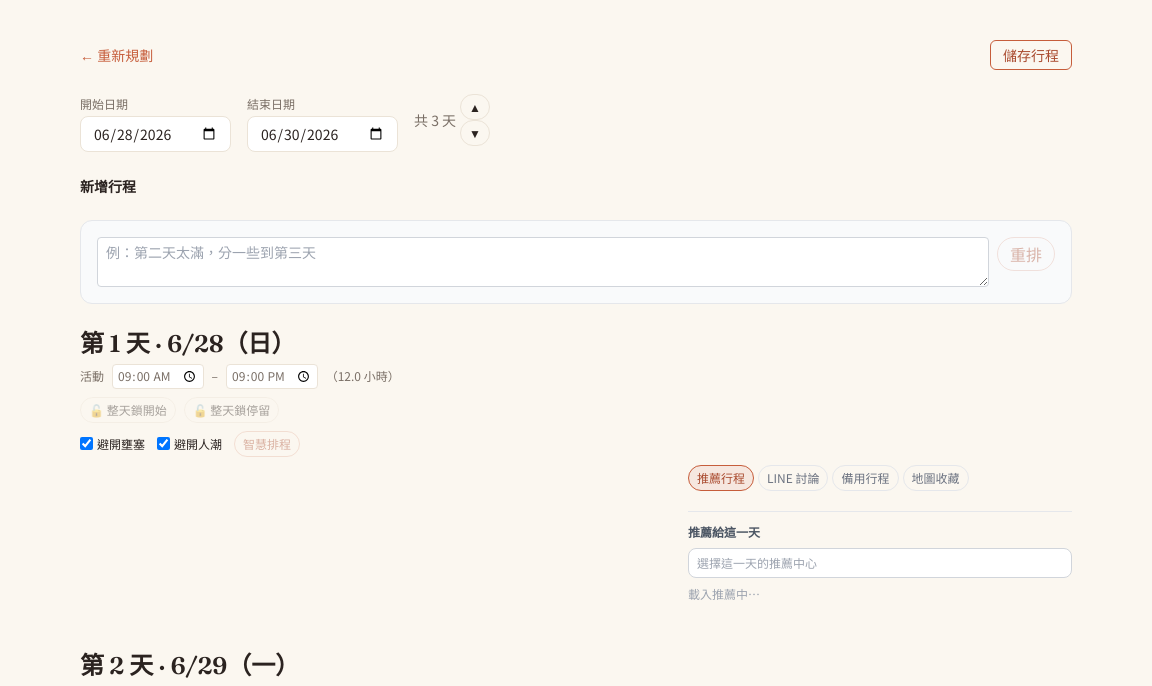
Scenario: clicking ▼ sets a pending target and shows the overCount banner without deleting days
Click the button with test id "day-count-stepper-down" at (475, 133), box [460, 120, 490, 146]
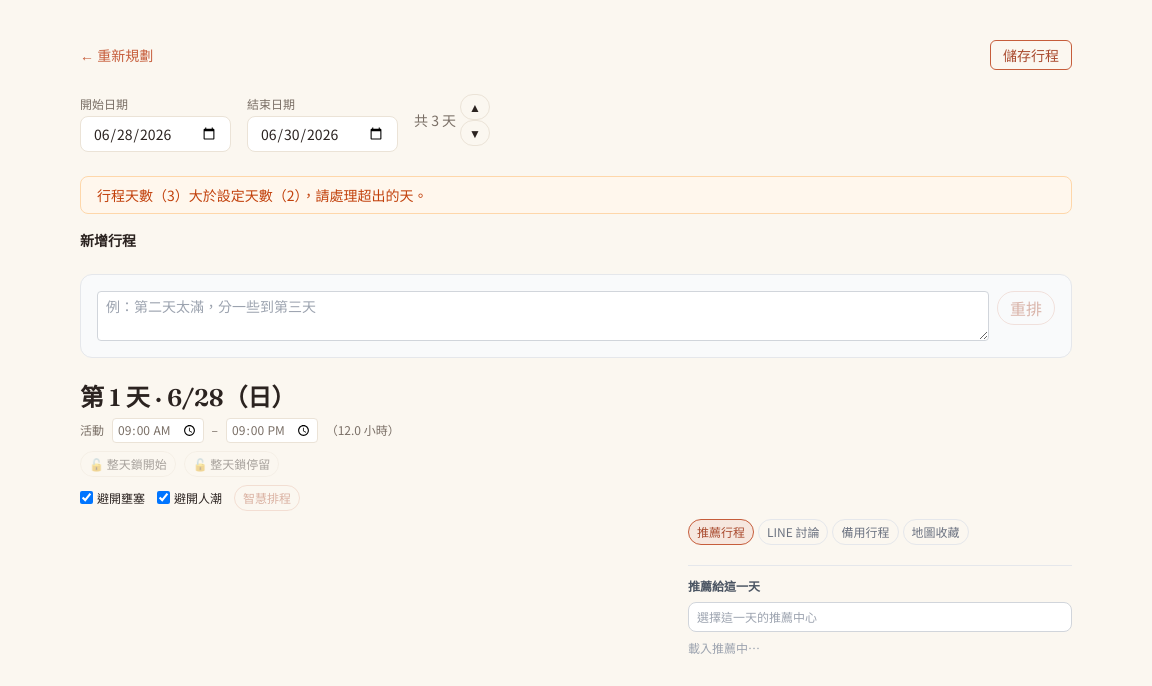
Expected: the text "共 3 天" is shown, [414, 110, 456, 130]
Result: the text "行程天數（3）大於設定天數（2），請處理超出的天。" is shown at [80, 176, 1072, 214]
